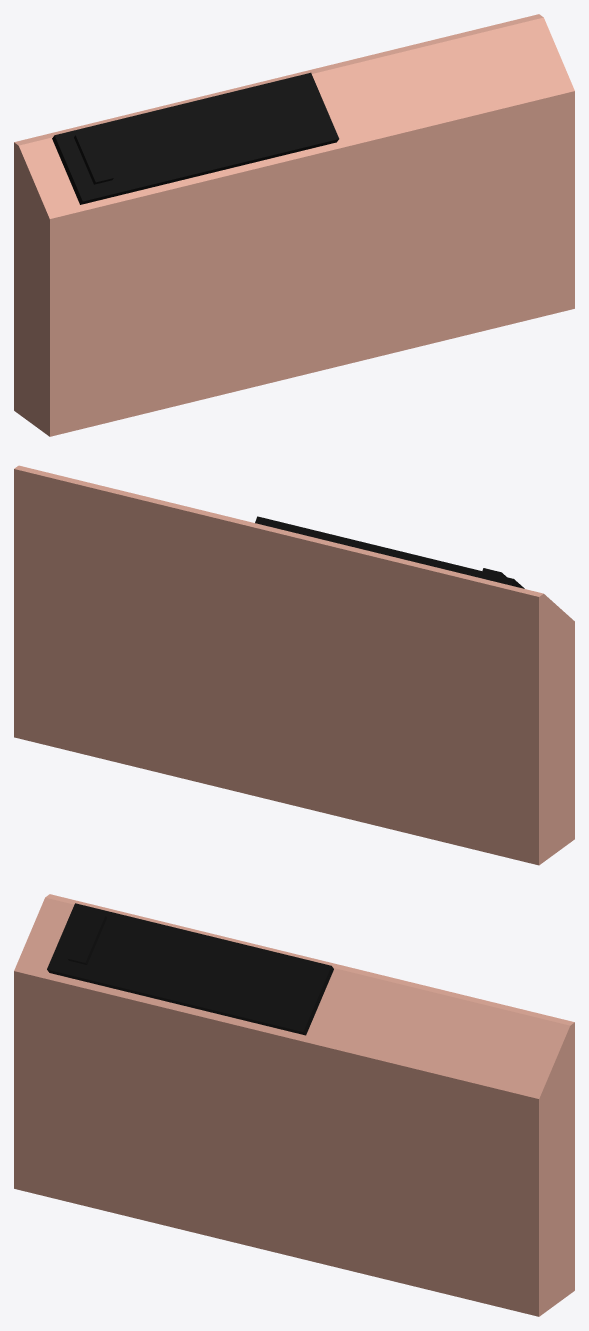
File: Control Panel.glb
3 views of the same model, one above another, from view 1: azimuth 30°, elevation 25°; view 2: azimuth 150°, elevation 25°; view 3: azimuth 330°, elevation 25° (orthographic).
Parts seen in each view (by area): view 1: PanelBase, PanelControl, LeverLocation; view 2: PanelBase, PanelControl; view 3: PanelBase, PanelControl, LeverLocation.
Boxes of the visible parts, x1,y1,x2,y2 form: PanelBase: [14, 14, 574, 436]; PanelControl: [52, 72, 339, 204]; LeverLocation: [74, 130, 113, 184]; PanelBase: [14, 465, 574, 865]; PanelControl: [255, 516, 524, 588]; PanelBase: [14, 894, 574, 1316]; PanelControl: [47, 903, 333, 1035]; LeverLocation: [67, 911, 106, 964].
Bounding box in the file's own units: 4.09 × 2.03 × 0.485.
